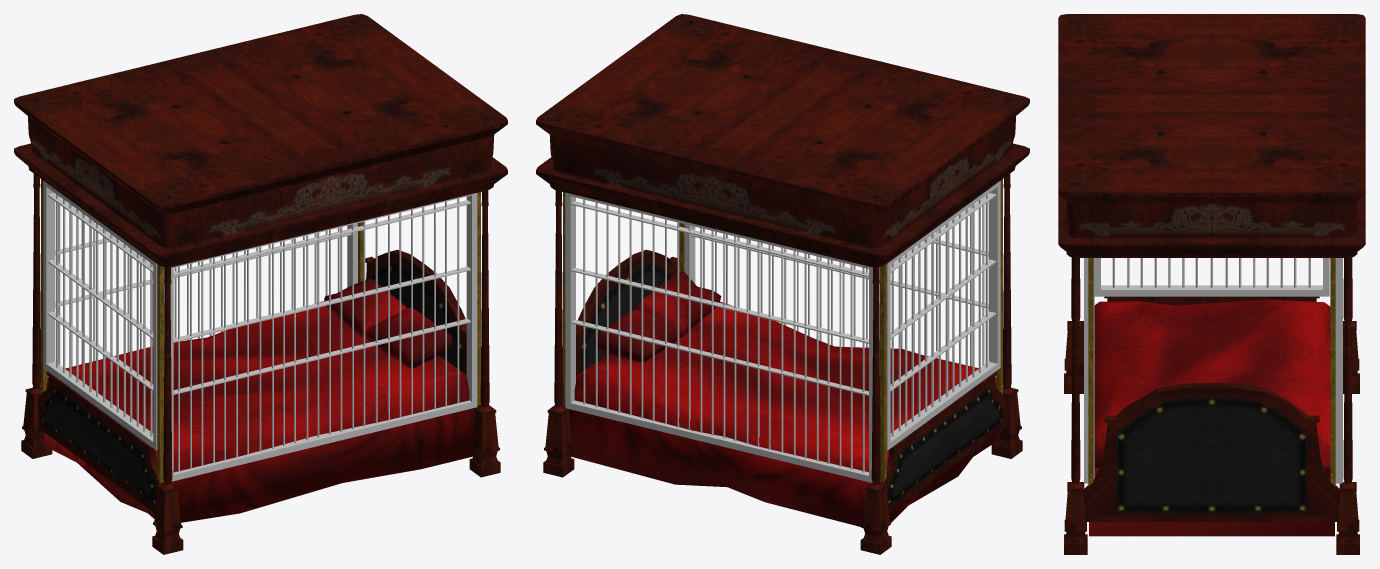
Rendered from bed_cage_down.DAE.
The picture shows the model from 3 angles, left to right: view 1: azimuth 30°, elevation 25°; view 2: azimuth 150°, elevation 25°; view 3: azimuth 270°, elevation 25°; orthographic projection. The views are drawn at different scales.
Parts seen in each view (by area): view 1: Box004, Box003; view 2: Box004, Box003; view 3: Box004, Box003.
Boxes of the visible parts, x1,y1,x2,y2 form: Box004: (14,14,507,554); Box003: (43,181,477,481); Box004: (536,14,1029,554); Box003: (565,181,1000,482); Box004: (1058,14,1365,554); Box003: (1084,258,1342,483).
Bounding box in the file's own units: 3.59 × 2.61 × 3.42.
